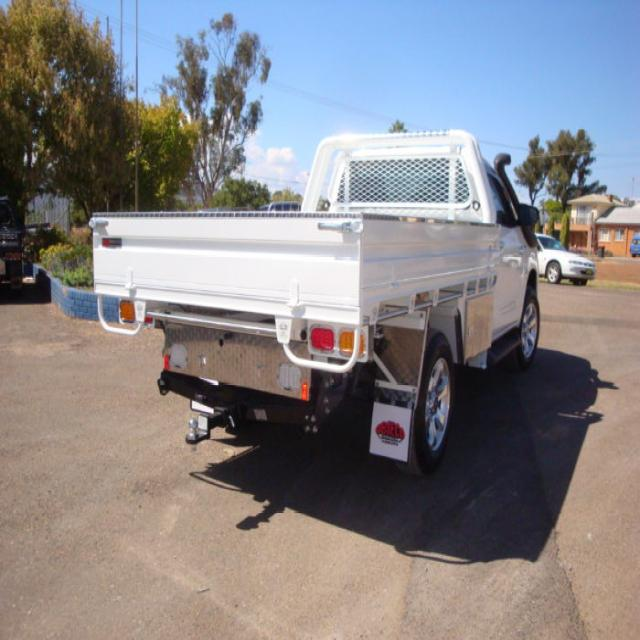light_vehicle: (72, 116, 557, 484)
